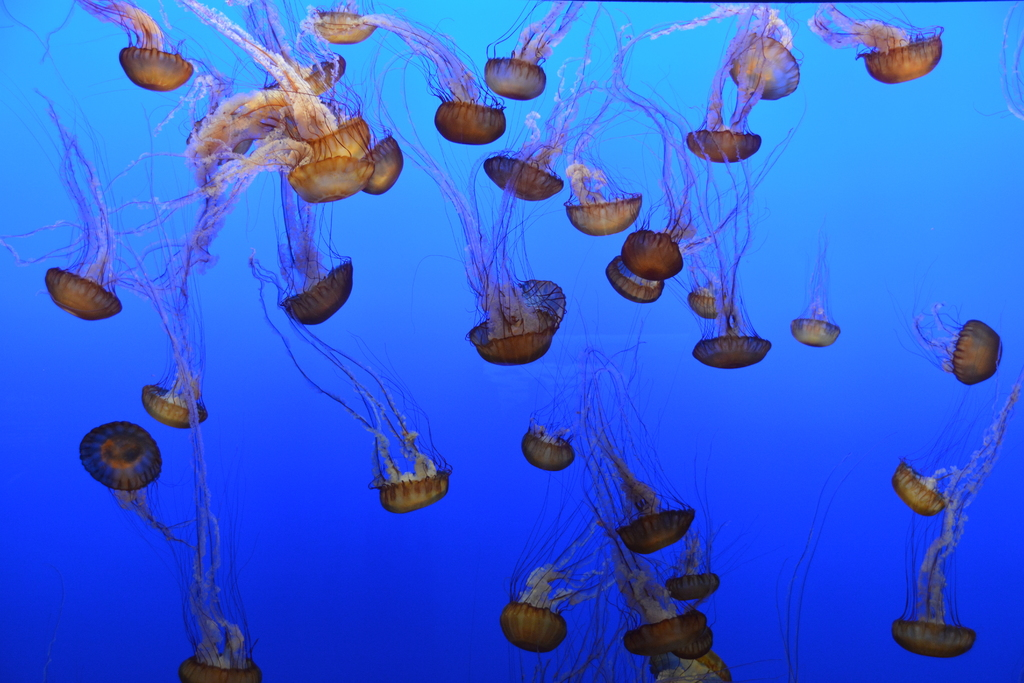Jellyfish: (0, 0, 1023, 682), (481, 0, 590, 99)
